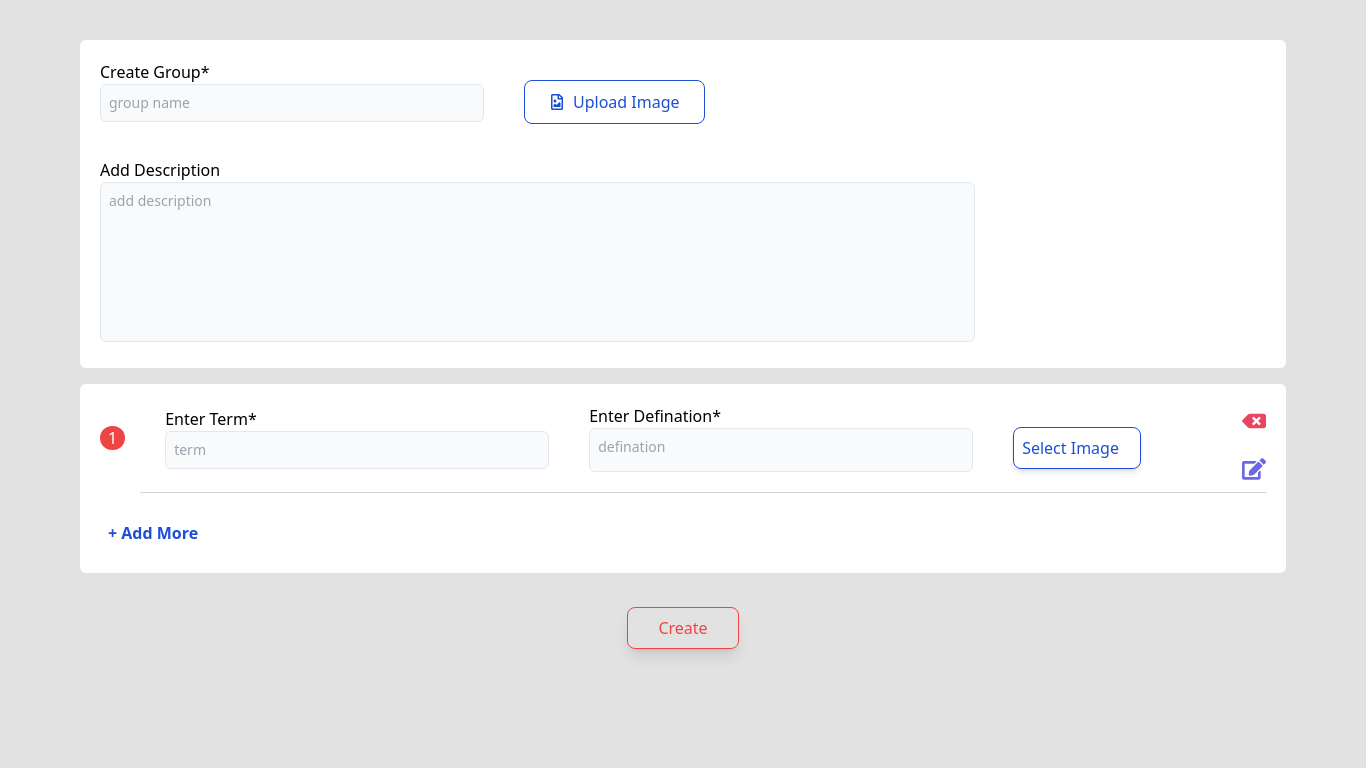
Scenario: CreateFlashCard › should show required on fields if any field is left blank
Type "crest" into the field with placeholder "group name". click: (292, 103)
box: [100,84,484,122]
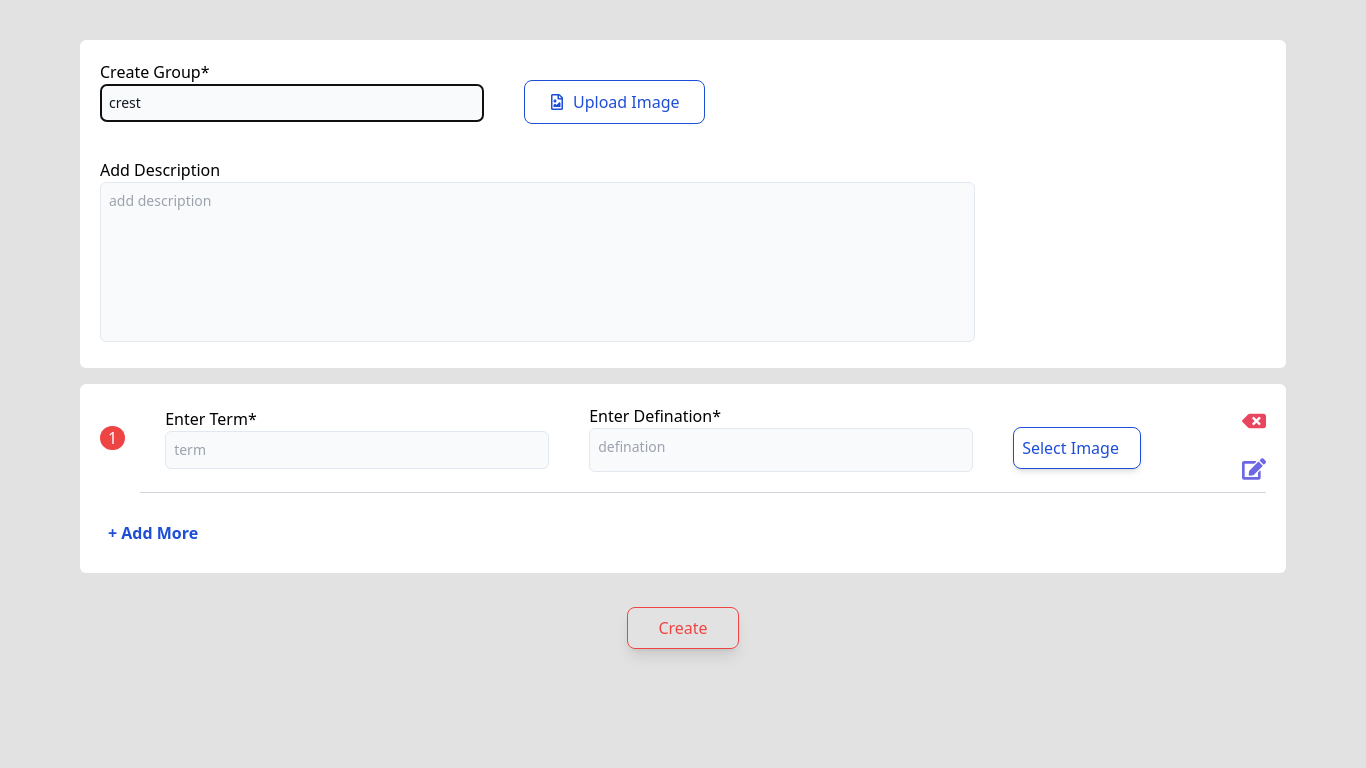
Type "Lo. Soluta doloremque quasi voluptate repellat velit hic magnam" into the text box with placeholder "add description". click: (537, 262)
box: [100,182,974,342]
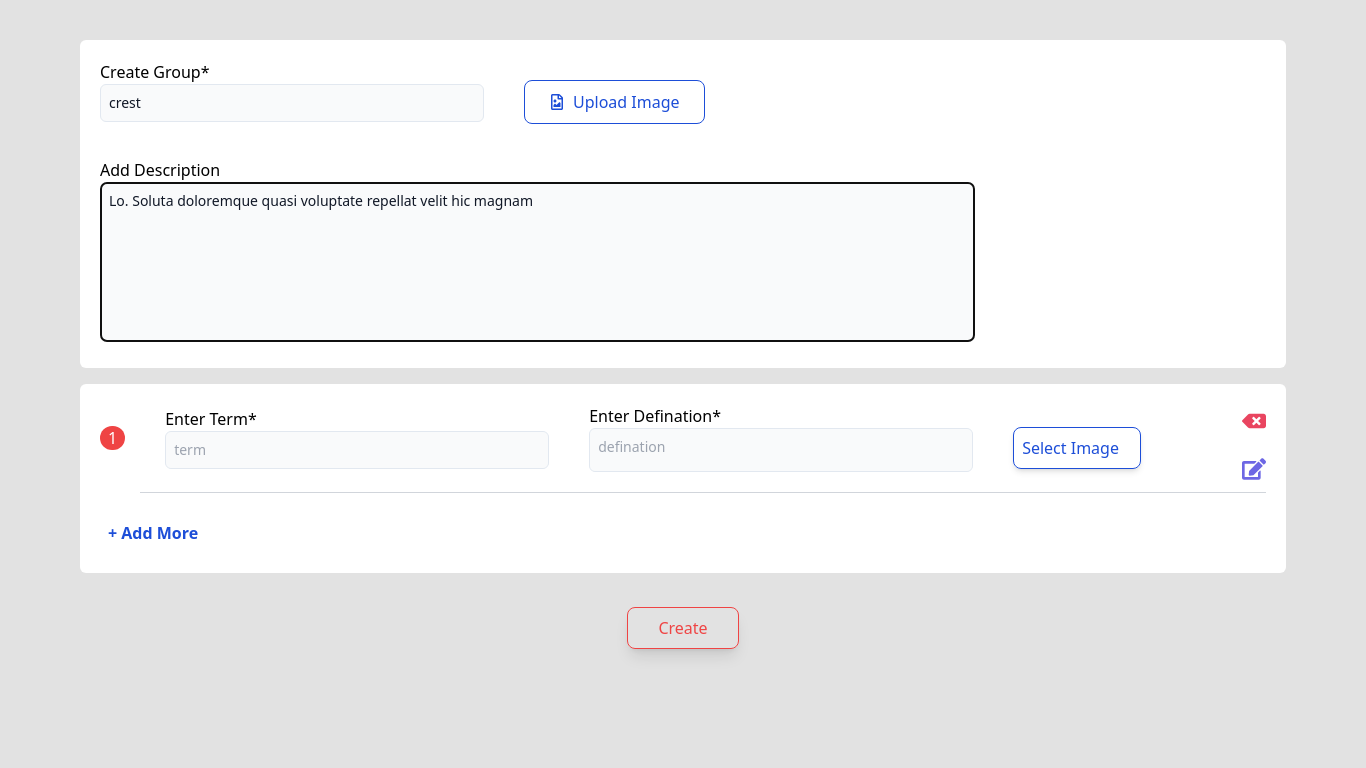
Type "term1" into the field with placeholder "term". click: (357, 450)
box: [165,431,549,469]
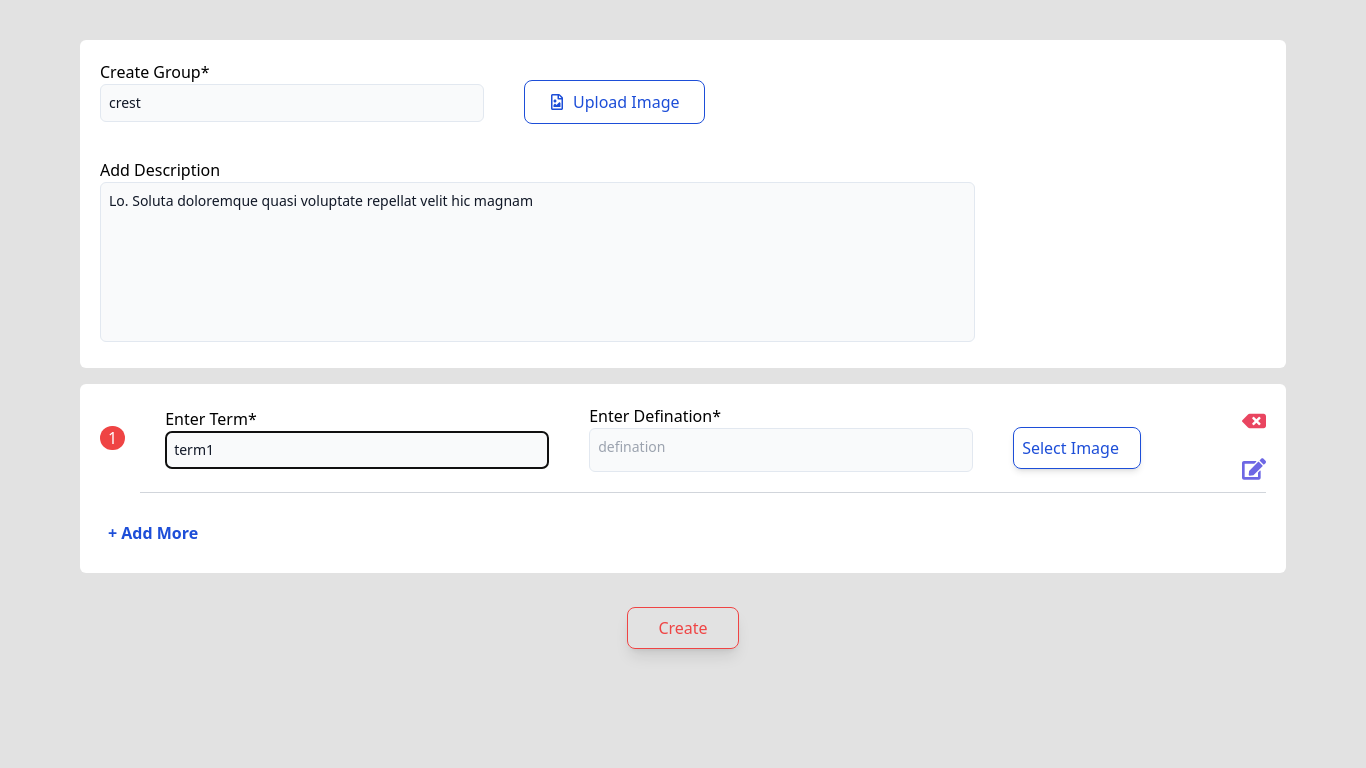
Click the button "Create". click: (683, 628)
box: [627,607,739,649]
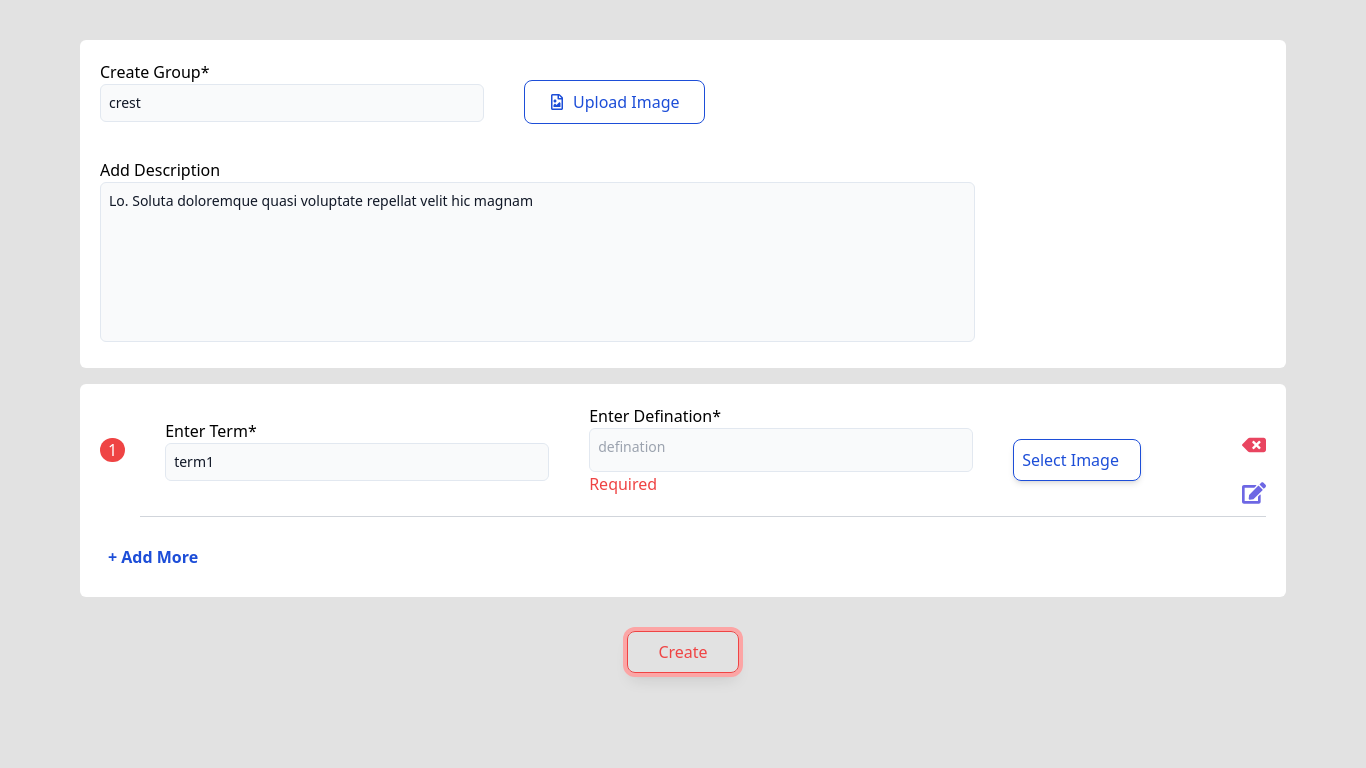
Expected: the text "Required" is shown, [589,473,657,495]
